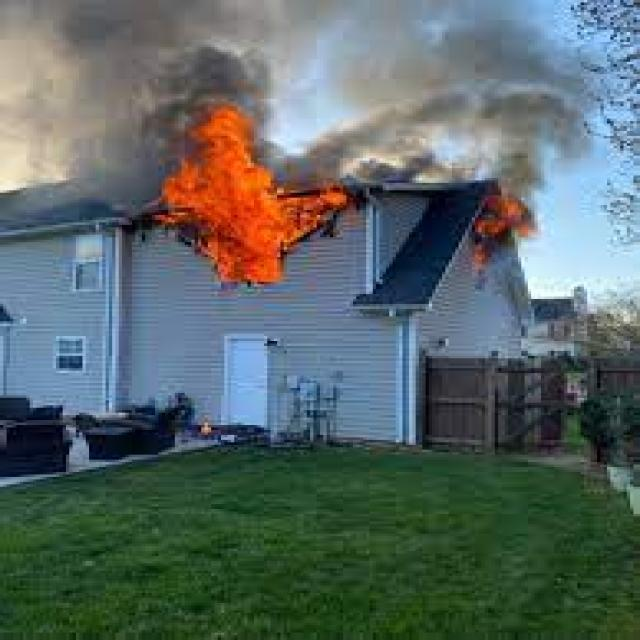Fire: (168, 108, 320, 286), (481, 199, 551, 268)
Smoke: (4, 4, 598, 190)
